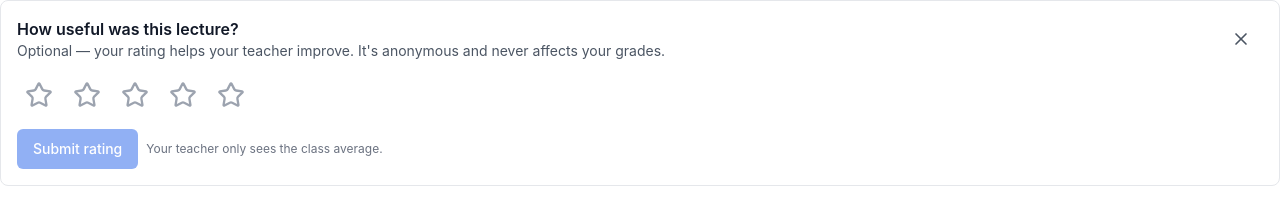
Test: LectureRatingPrompt › appears on completion; student picks stars and submits 1-5
Expected: the button with test id "lecture-rating-submit" is disabled, [17,129,138,169]
Click the radio button named "4 stars" at (183, 95), box [161,73,205,117]
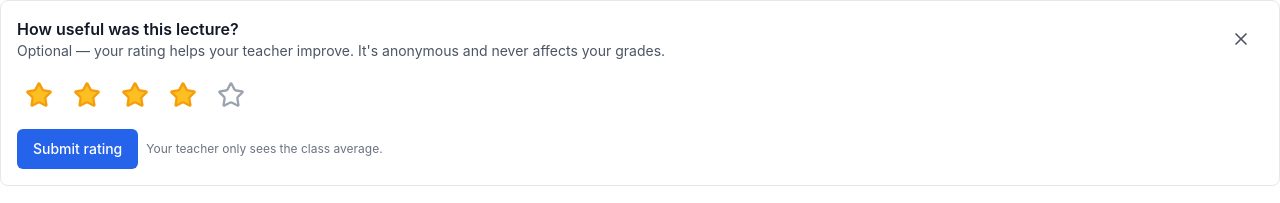
Expected: the radio button named "4 stars" is checked, [161,73,205,117]
Click the button with test id "lecture-rating-submit" at (78, 149), box [17,129,138,169]
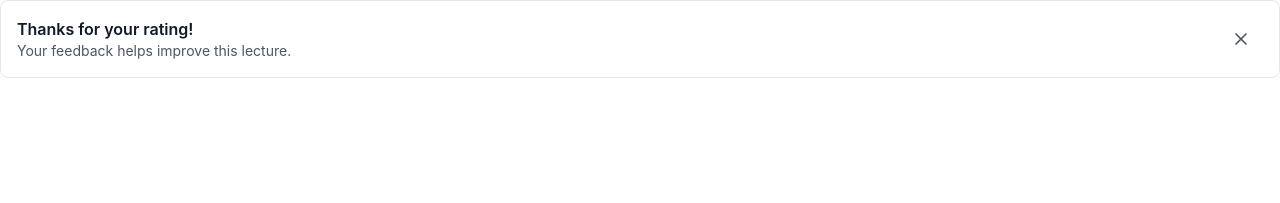
Expected: the heading "Thanks for your rating!" is shown, [17,19,193,39]
